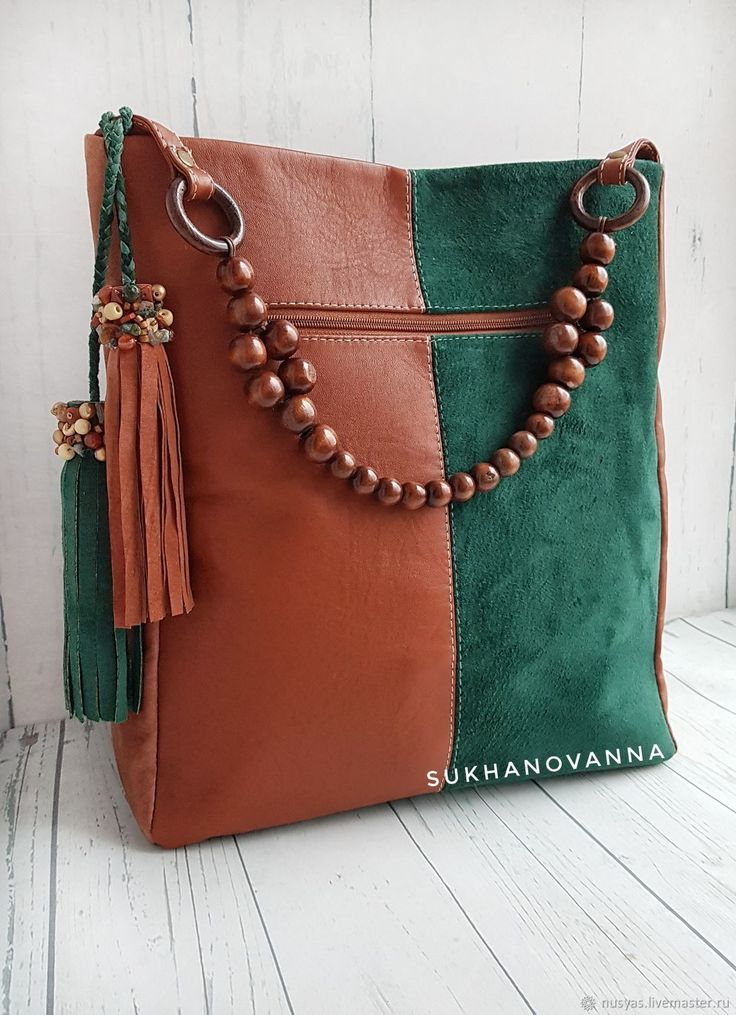cuero: (60, 109, 677, 849)
